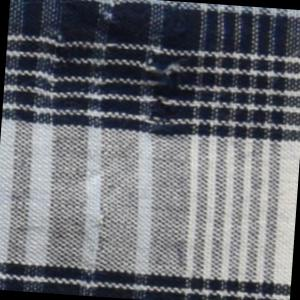Damage: (40, 1, 220, 130)
